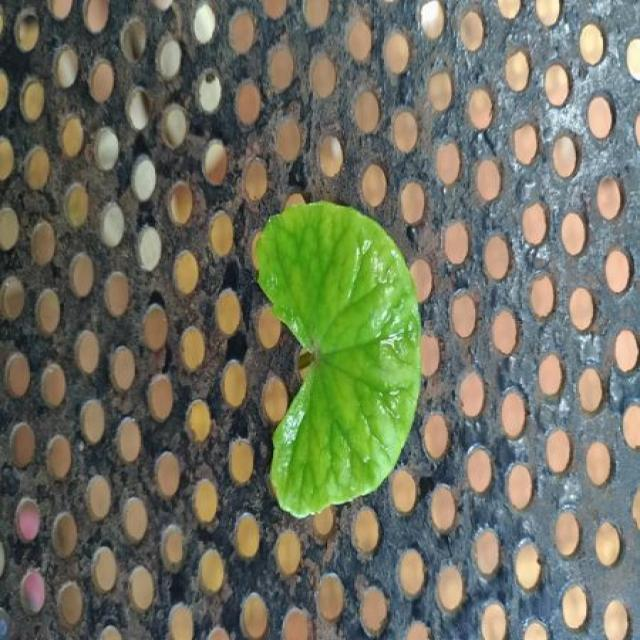bhrami: (258, 202, 420, 517)
